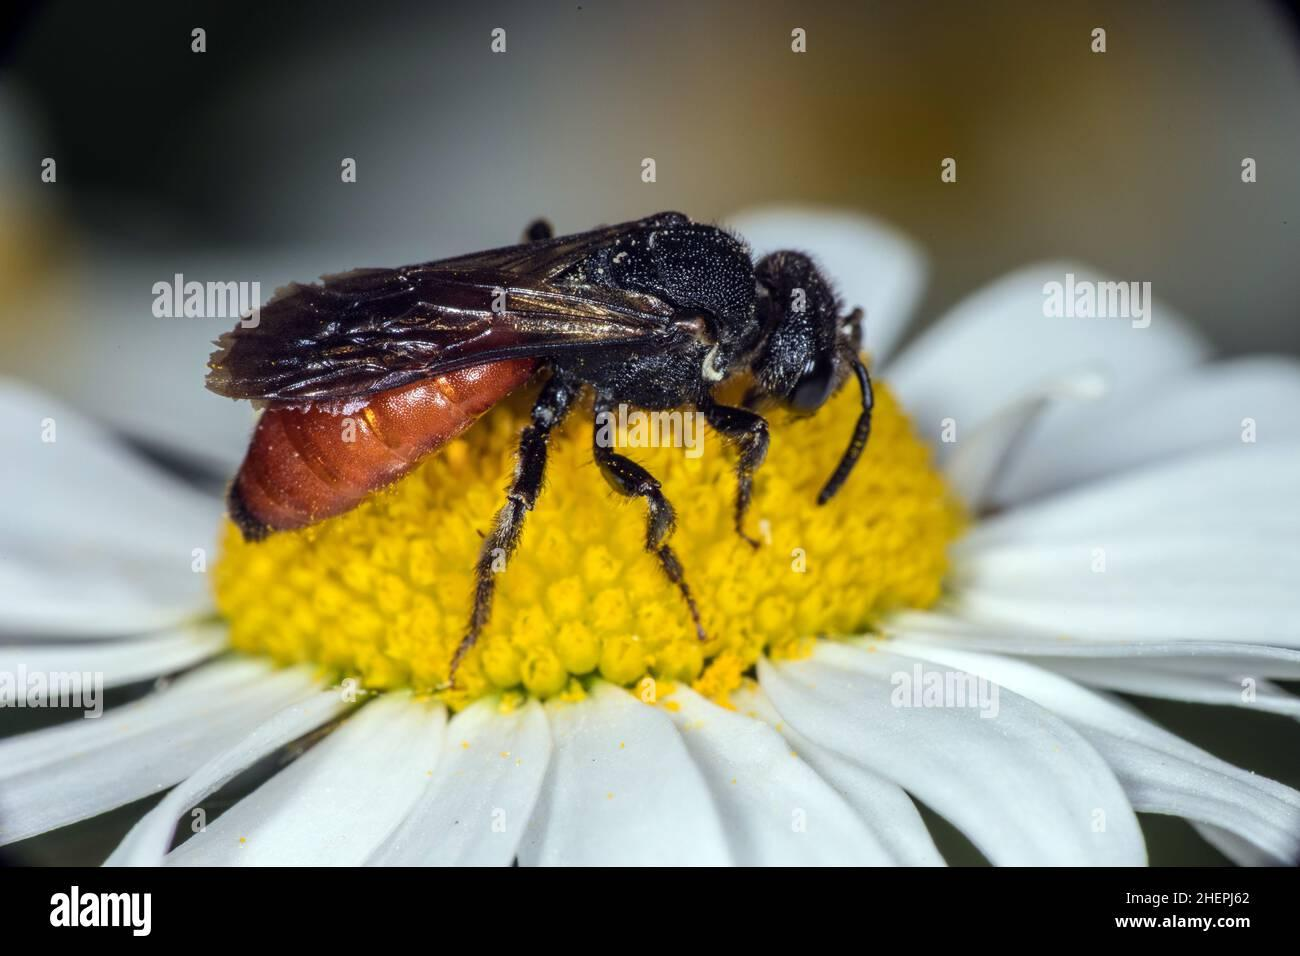Allodapula: (192, 189, 888, 685)
